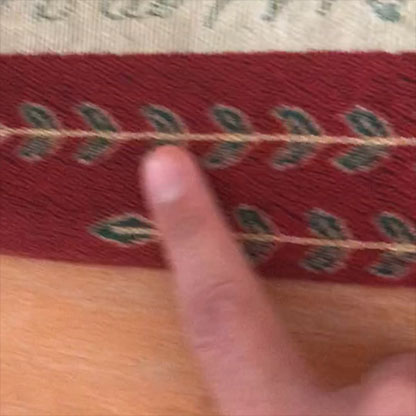fingertip: (130, 141, 225, 225)
